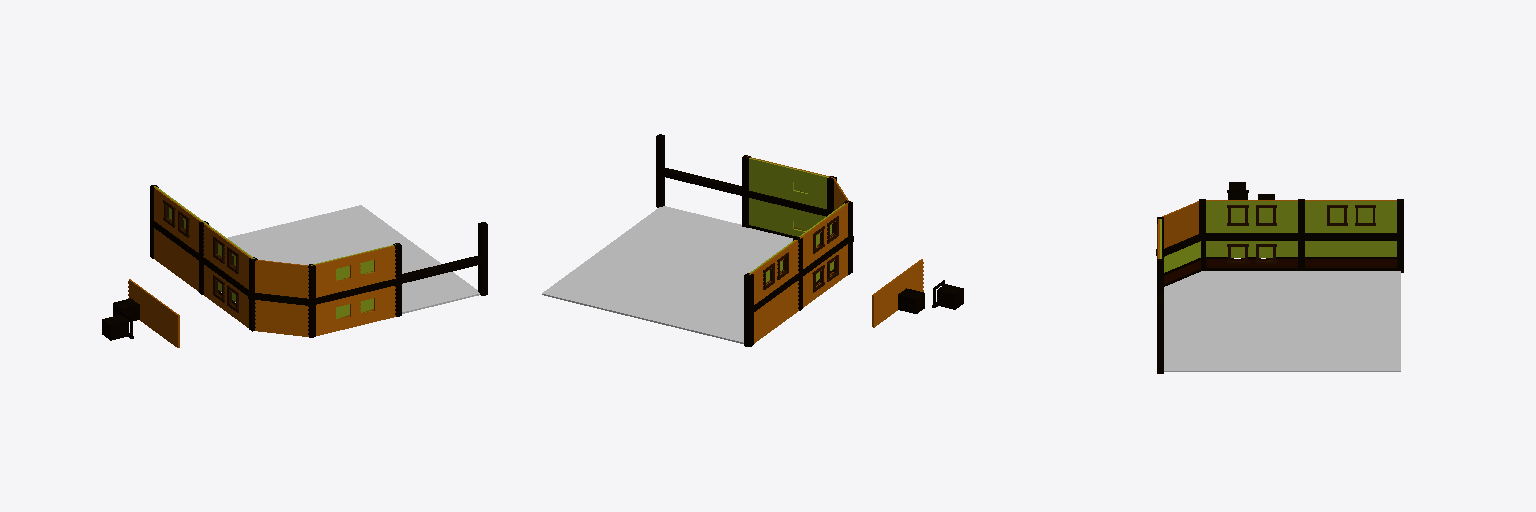
Rendered from Bar.obj.
3 views of the same model, side by side, from view 1: azimuth 30°, elevation 25°; view 2: azimuth 150°, elevation 25°; view 3: azimuth 270°, elevation 25° (orthographic).
Visible parts, largest first — view 1: Cube, Cube.043_Cube.054, Cube.047_Cube.058, Cube.051_Cube.063, Cube.050_Cube.062, Cube.025_Cube.032, Cube.039_Cube.050, Cube.007_Cube.022, Cube.008_Cube.021, Cube.048_Cube.060, Cube.049_Cube.061, Cube.021_Cube.037 (+1 smaller); view 2: Cube, Cube.044_Cube.055, Cube.046_Cube.057, Cube.025_Cube.032, Cube.007_Cube.022, Cube.039_Cube.050, Cube.008_Cube.021, Cube.048_Cube.060, Cube.041_Cube.052, Cube.049_Cube.061, Cube.003_Cube.005, Cube.021_Cube.037 (+1 smaller); view 3: Cube, Cube.040_Cube.051, Cube.002_Cube.010, Cube.024_Cube.031, Cube.016_Cube.023, Cube.051_Cube.063, Cube.026_Cube.033, Cube.031_Cube.040, Cube.042_Cube.053, Cube.006_Cube.008, Cube.054_Cube.068.
Part boxes in pixels (bbox=[...]): Cube: bbox=[221, 205, 479, 313]; Cube.043_Cube.054: bbox=[312, 246, 395, 297]; Cube.047_Cube.058: bbox=[316, 286, 395, 335]; Cube.051_Cube.063: bbox=[255, 260, 308, 298]; Cube.050_Cube.062: bbox=[255, 300, 308, 336]; Cube.025_Cube.032: bbox=[154, 228, 198, 291]; Cube.039_Cube.050: bbox=[154, 187, 203, 252]; Cube.007_Cube.022: bbox=[203, 223, 252, 289]; Cube.008_Cube.021: bbox=[204, 265, 248, 327]; Cube.048_Cube.060: bbox=[402, 255, 481, 283]; Cube.049_Cube.061: bbox=[478, 222, 487, 295]; Cube.021_Cube.037: bbox=[102, 315, 128, 340]; Cube: bbox=[542, 206, 792, 343]; Cube.044_Cube.055: bbox=[749, 158, 828, 208]; Cube.046_Cube.057: bbox=[749, 198, 825, 236]; Cube.025_Cube.032: bbox=[754, 281, 798, 343]; Cube.007_Cube.022: bbox=[800, 203, 847, 268]; Cube.039_Cube.050: bbox=[749, 240, 798, 304]; Cube.008_Cube.021: bbox=[803, 244, 847, 307]; Cube.048_Cube.060: bbox=[659, 168, 744, 195]; Cube.041_Cube.052: bbox=[744, 273, 753, 346]; Cube.049_Cube.061: bbox=[656, 134, 664, 207]; Cube.003_Cube.005: bbox=[745, 191, 830, 216]; Cube.021_Cube.037: bbox=[937, 284, 963, 309]; Cube: bbox=[1164, 271, 1400, 371]; Cube.040_Cube.051: bbox=[1305, 201, 1396, 232]; Cube.002_Cube.010: bbox=[1206, 201, 1297, 232]; Cube.024_Cube.031: bbox=[1305, 241, 1396, 256]; Cube.016_Cube.023: bbox=[1206, 241, 1297, 257]; Cube.051_Cube.063: bbox=[1162, 201, 1198, 248]; Cube.026_Cube.033: bbox=[1305, 259, 1396, 267]; Cube.031_Cube.040: bbox=[1302, 233, 1400, 240]; Cube.042_Cube.053: bbox=[1203, 233, 1299, 240]; Cube.006_Cube.008: bbox=[1206, 258, 1297, 267]; Cube.054_Cube.068: bbox=[1164, 241, 1200, 272].
Size of the model in its own units: 27.79 by 5.5 by 17.57.